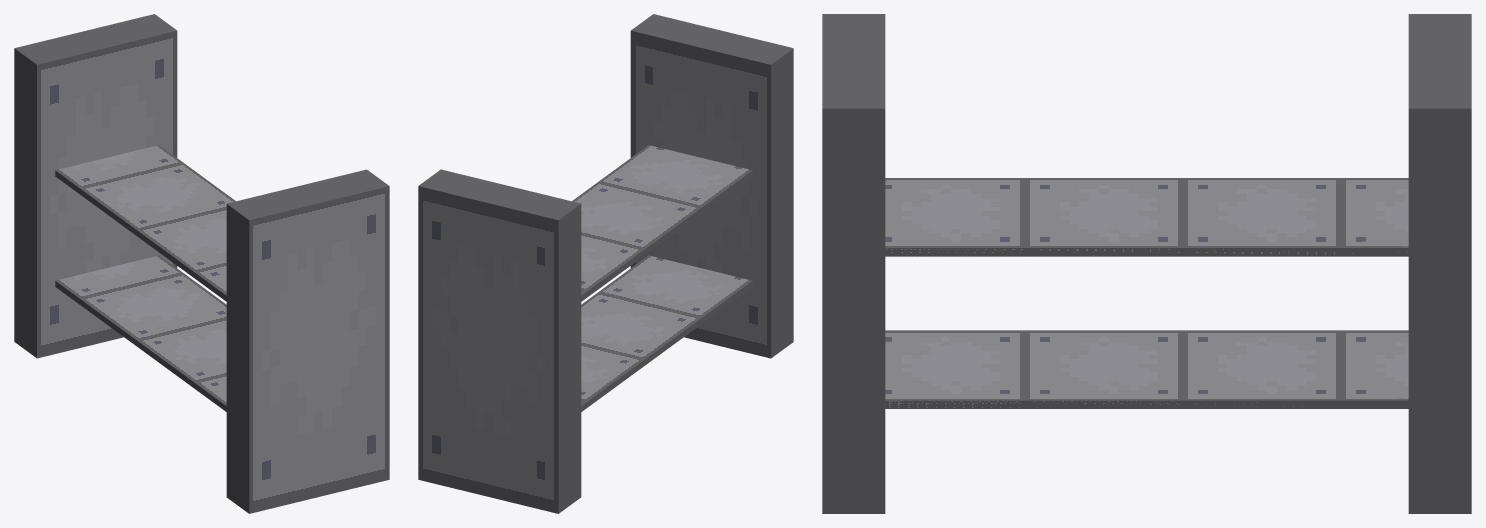
File: ToolRack.glb
The picture shows the model from 3 angles, left to right: view 1: azimuth 30°, elevation 25°; view 2: azimuth 150°, elevation 25°; view 3: azimuth 270°, elevation 25°; orthographic projection. The views are drawn at different scales.
Parts seen in each view (by area): view 1: Cube; view 2: Cube; view 3: Cube.
Boxes of the visible parts, box(x1,y1,x2,y2) form: Cube: box(14, 14, 389, 513); Cube: box(418, 14, 793, 513); Cube: box(822, 14, 1471, 513).
Bounding box in the file's own units: 1 × 2 × 2.9.
1 material, 1 textured.
